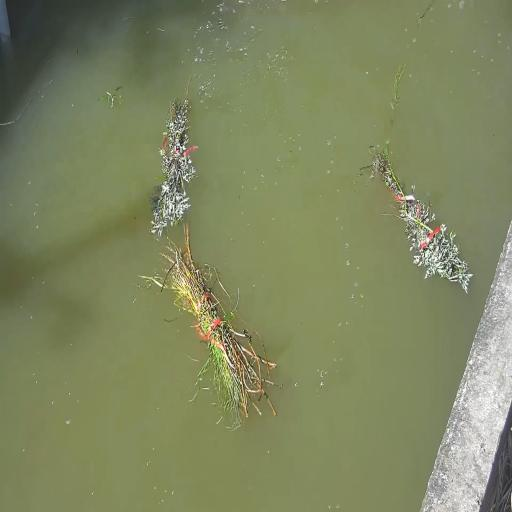twig: (141, 226, 277, 422), (361, 146, 472, 293), (151, 98, 196, 237)
